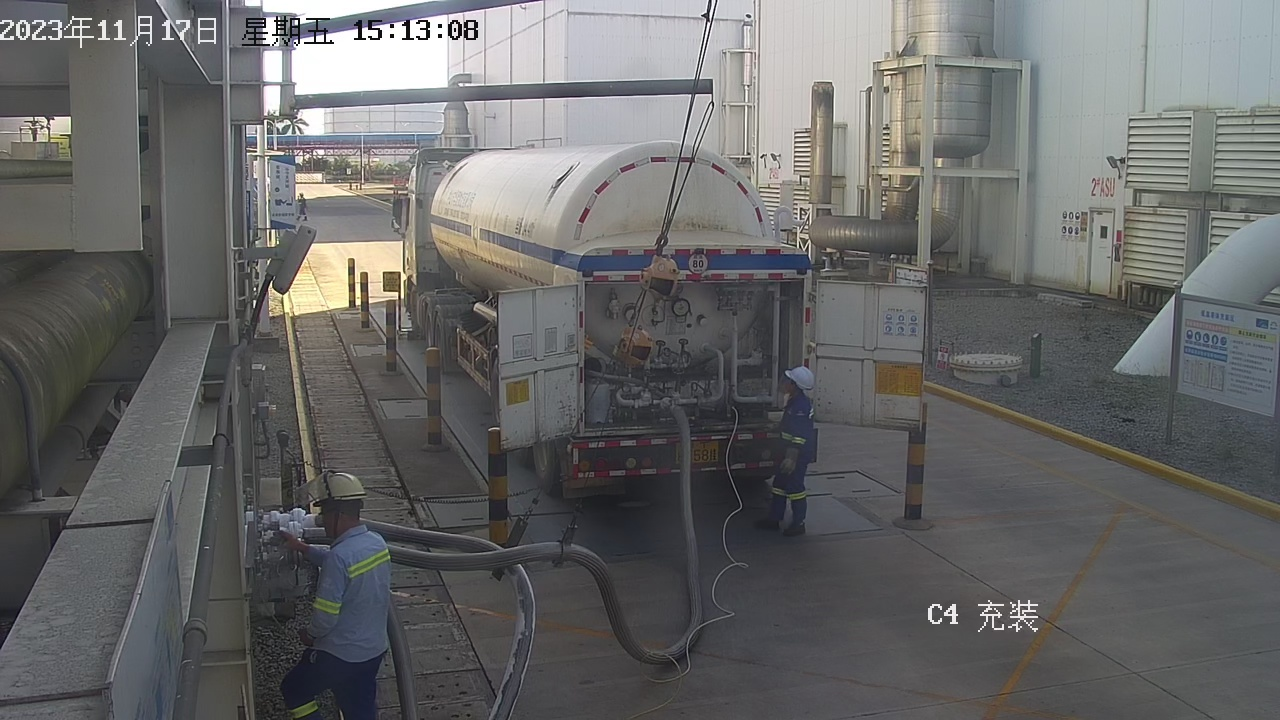Head_with_Helmet: (275, 457, 381, 544), (769, 355, 819, 402), (296, 191, 308, 200)
Uniform: (251, 520, 427, 720), (754, 394, 848, 553), (292, 197, 312, 222)
